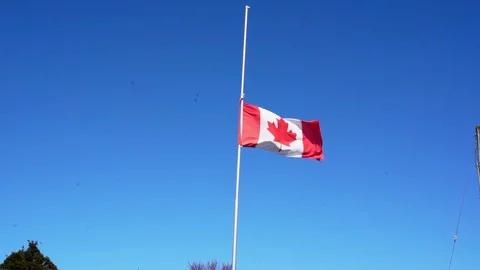Canada flag: (240, 98, 327, 161)
